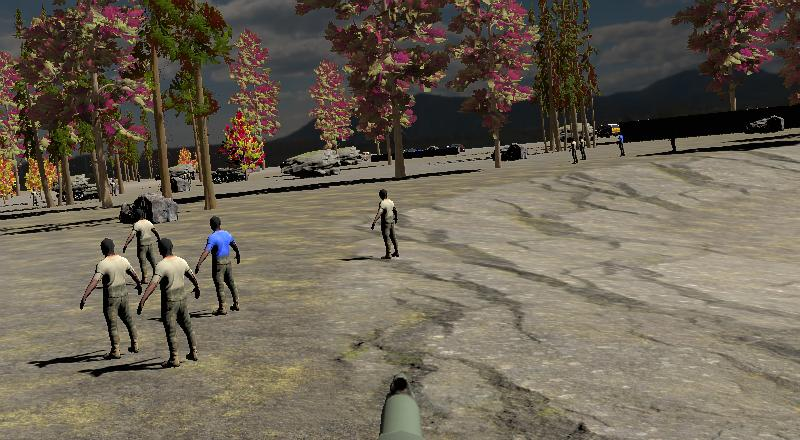Human: (77, 231, 143, 361), (193, 213, 244, 318), (370, 184, 404, 262)
Tank: (205, 163, 249, 186)
